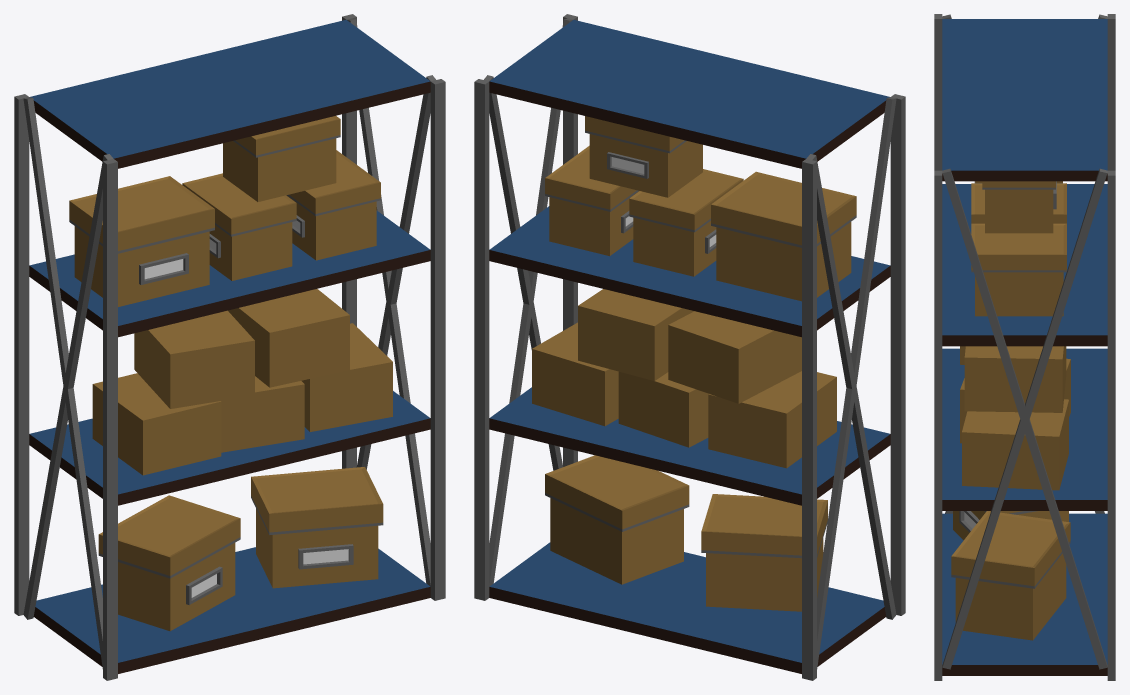
Rendered from rack.fbx.
3 views of the same model, side by side, from view 1: azimuth 30°, elevation 25°; view 2: azimuth 150°, elevation 25°; view 3: azimuth 270°, elevation 25° (orthographic). The views are drawn at different scales.
Visible parts, largest first — view 1: Cube.006; view 2: Cube.006; view 3: Cube.006.
Boxes of the visible parts, <box> form: Cube.006: <box>14,14,445,680</box>; Cube.006: <box>474,14,905,680</box>; Cube.006: <box>934,14,1115,680</box>.
Size of the model in its own units: 105 by 155 by 49.91.
